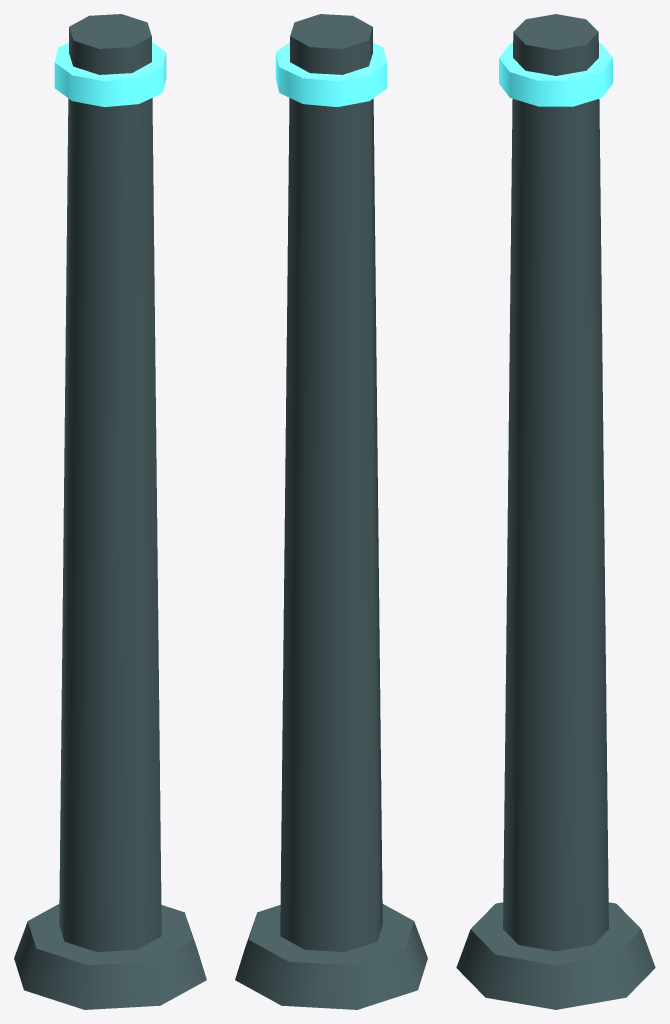
The model's file is agent-os-camera-pole.glb.
The picture shows the model from 3 angles, left to right: view 1: azimuth 30°, elevation 25°; view 2: azimuth 150°, elevation 25°; view 3: azimuth 270°, elevation 25°; orthographic projection.
Parts seen in each view (by area): view 1: pole, foot, locator-collar; view 2: pole, foot, locator-collar; view 3: pole, foot, locator-collar.
Part boxes in pixels (x1,y1,x2,y2): pole: (59,14,161,951); foot: (14,904,206,1009); locator-collar: (54,42,166,107); pole: (280,14,382,951); foot: (235,904,427,1009); locator-collar: (275,42,387,107); pole: (503,14,608,951); foot: (456,902,655,1009); locator-collar: (499,43,612,106).
Bounding box in the file's own units: 0.56 × 2.9 × 0.56.
